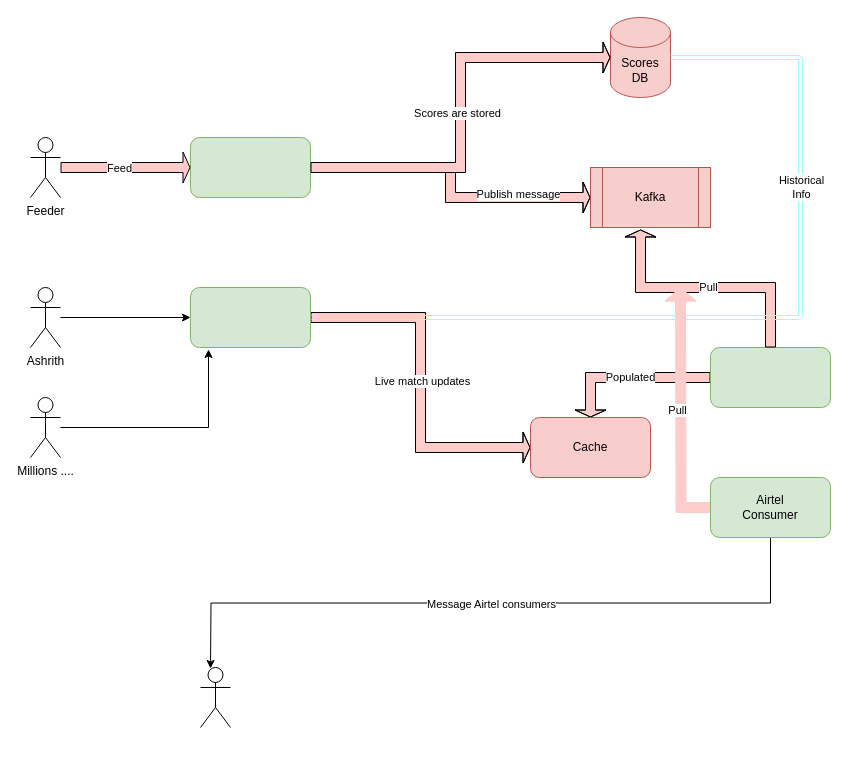
The diagram is 848 pixels wide and 766 high, and some of its shapes have lost their labels. The centre of each missing label's shape, as x and y in pixels:
"Cricbuzz Web" belongs at (x=250, y=317).
"Desktop/Web UI" belongs at (x=250, y=167).
"Live Match Consumer" belongs at (x=770, y=377).
"Millions of Airtel subscribers" belongs at (x=215, y=697).
